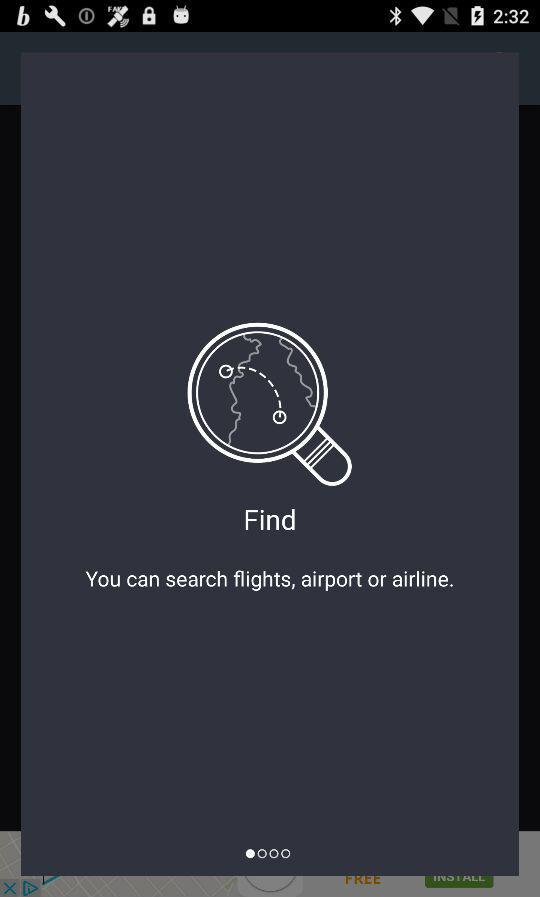Image: (186, 322, 353, 489)
PageIndicator: (245, 848, 292, 860)
Text: (86, 570, 454, 593), (245, 509, 297, 532)
UpperTaskBar: (1, 1, 540, 33)
